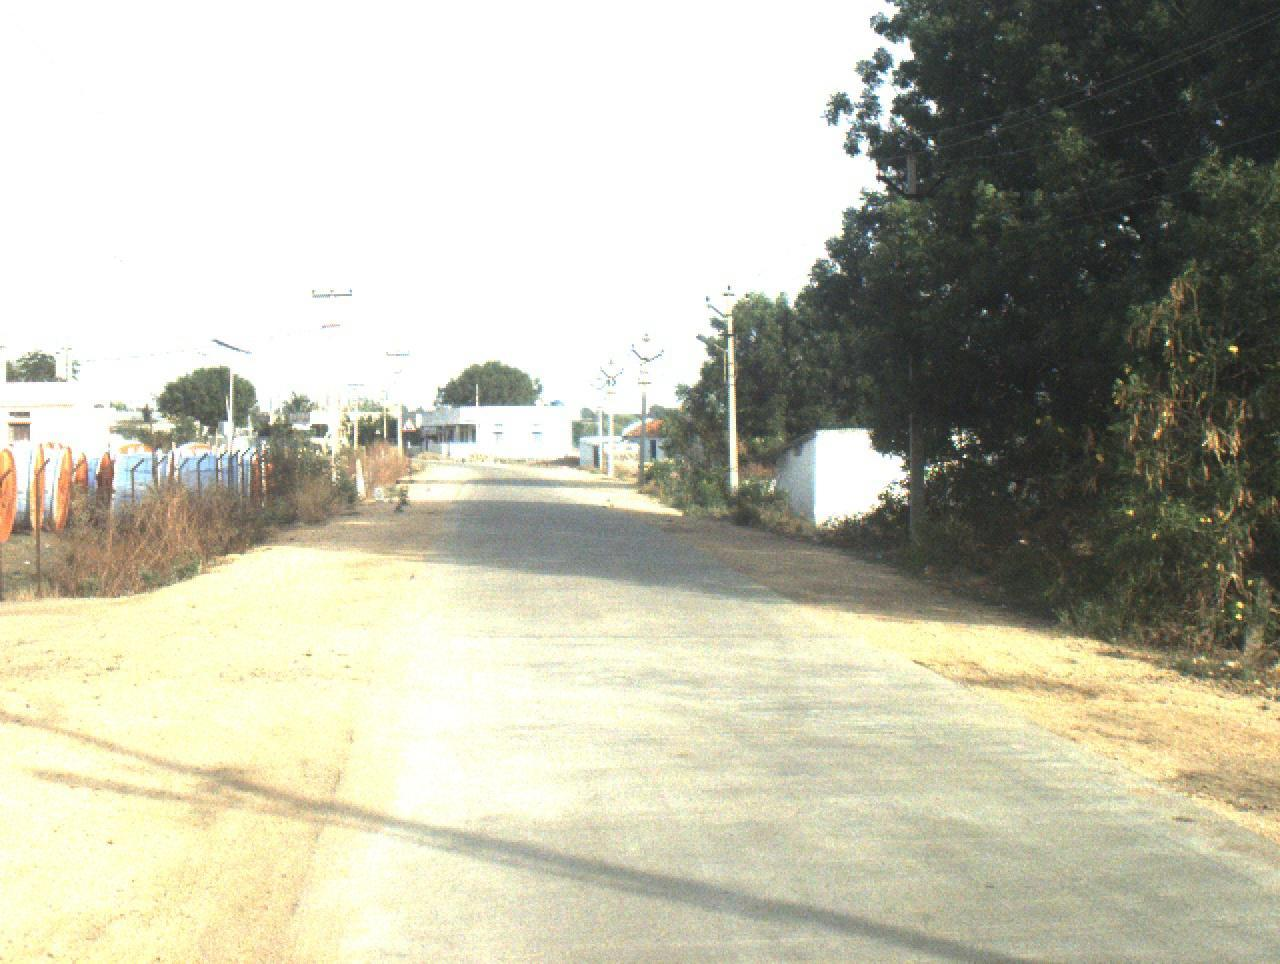off: (0, 0, 1244, 964)
